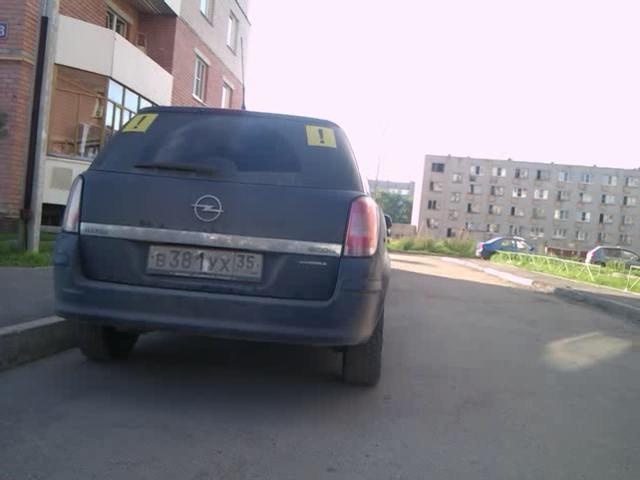car license plate: (144, 241, 264, 285)
